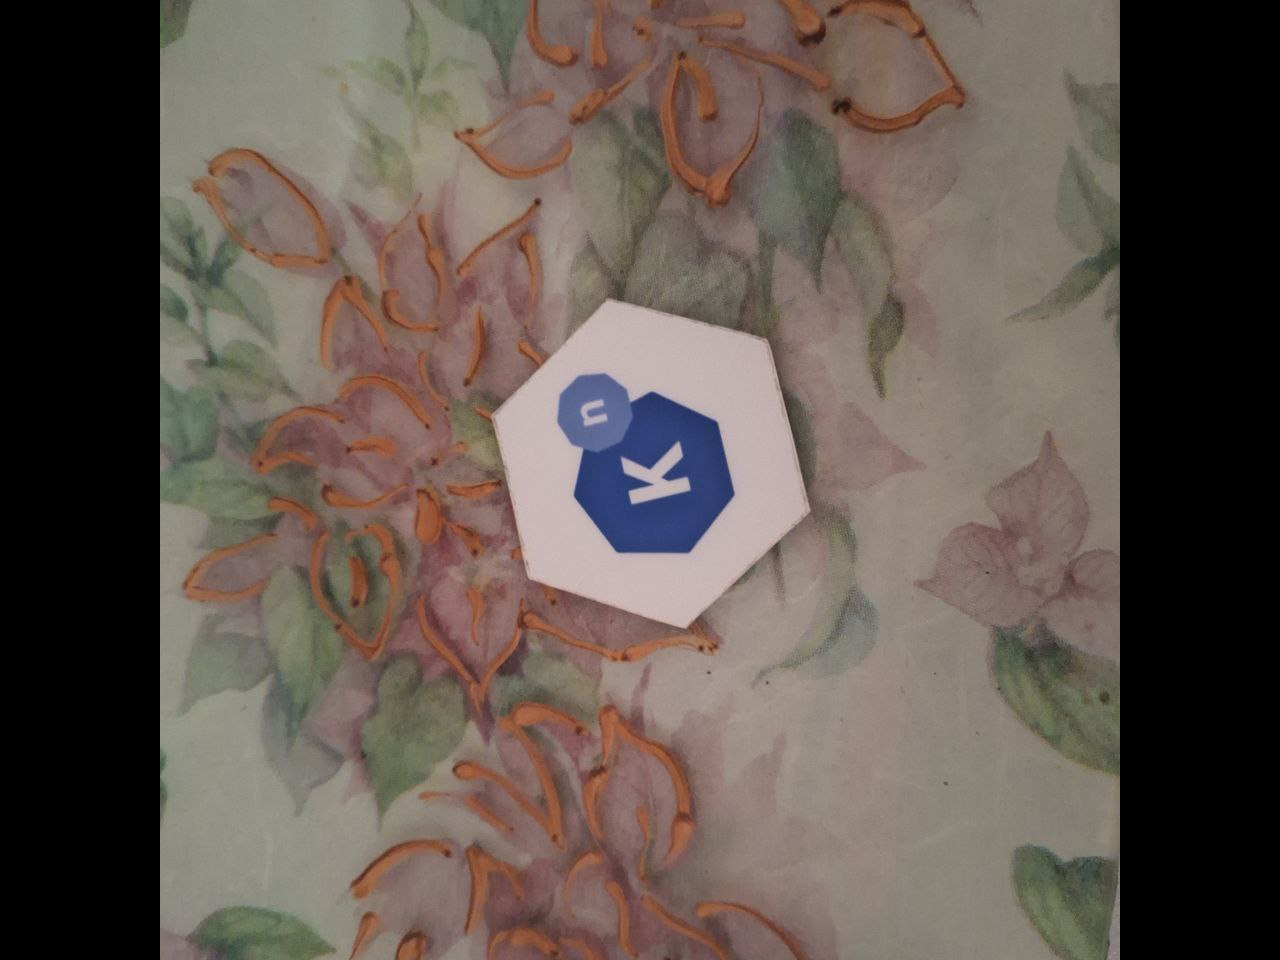knative: (556, 372, 733, 556)
